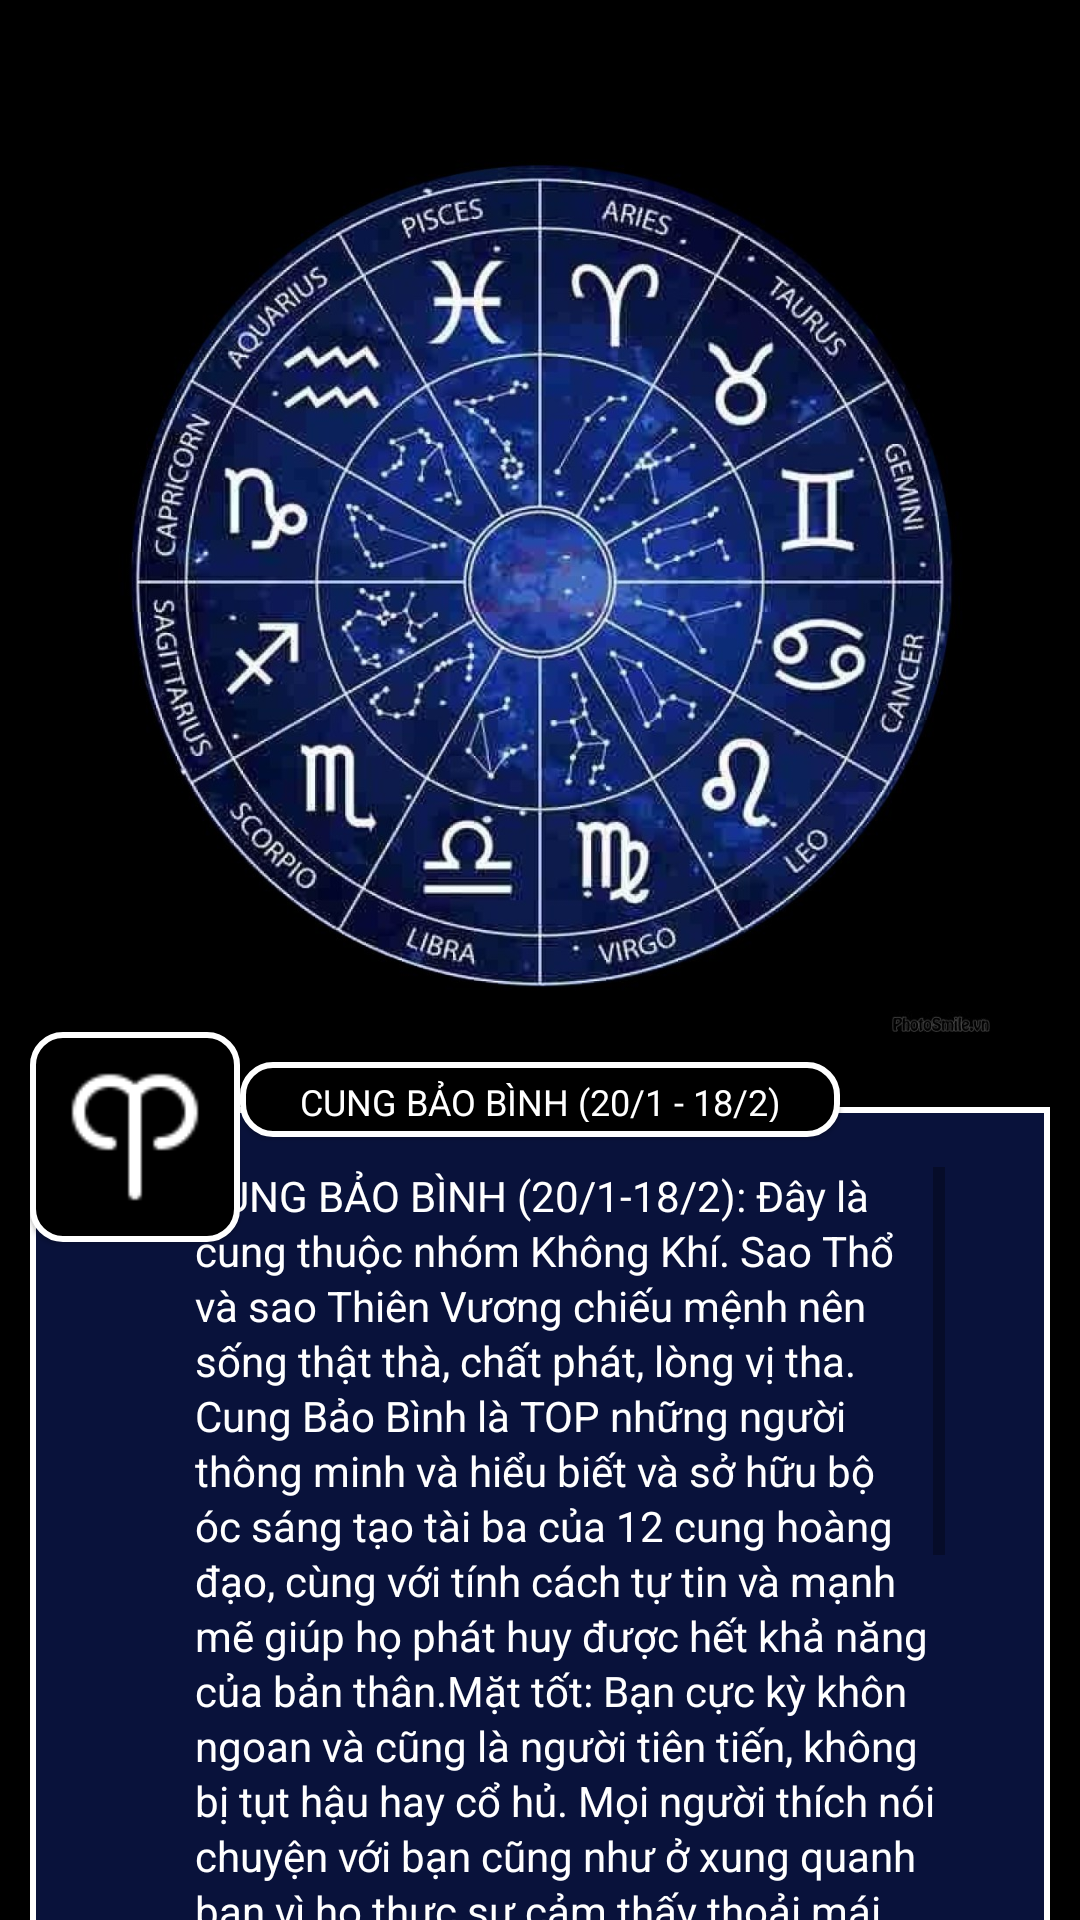

Icon click points for this 1080 × 1920 phone screenshot, format (x=x, y=y):
aries: (x=135, y=1137)
